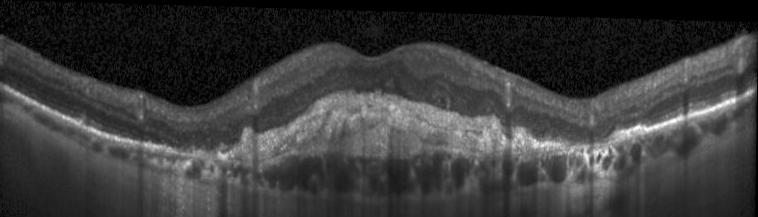subretinal_hyperreflective_material: (221, 83, 582, 161), (609, 120, 649, 141)
